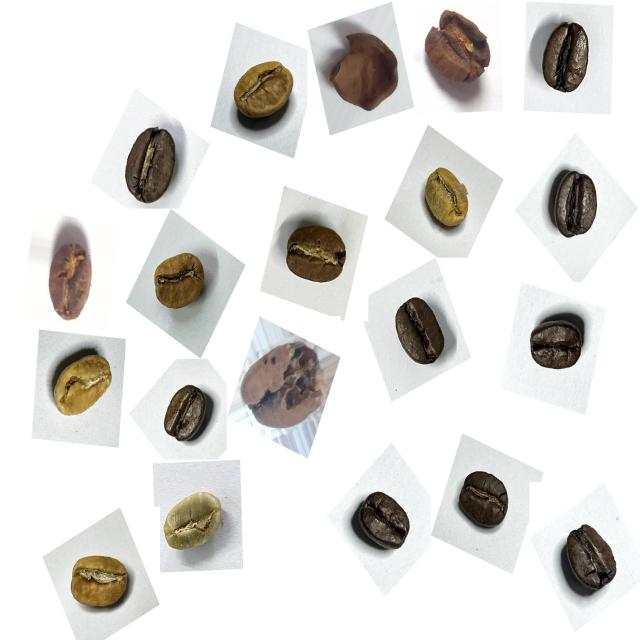bad: (238, 328, 324, 438), (319, 18, 406, 124), (420, 3, 503, 102), (37, 224, 104, 330)
dark: (548, 514, 626, 605), (531, 10, 604, 107), (382, 286, 454, 381), (345, 479, 419, 566), (540, 161, 611, 251), (452, 456, 522, 543), (522, 306, 593, 384)
green: (156, 478, 235, 565)
light: (39, 337, 121, 430), (226, 46, 304, 138), (57, 536, 138, 624), (411, 155, 479, 246), (148, 240, 220, 324)
medium: (111, 119, 189, 215), (276, 213, 354, 299), (154, 377, 216, 452)
